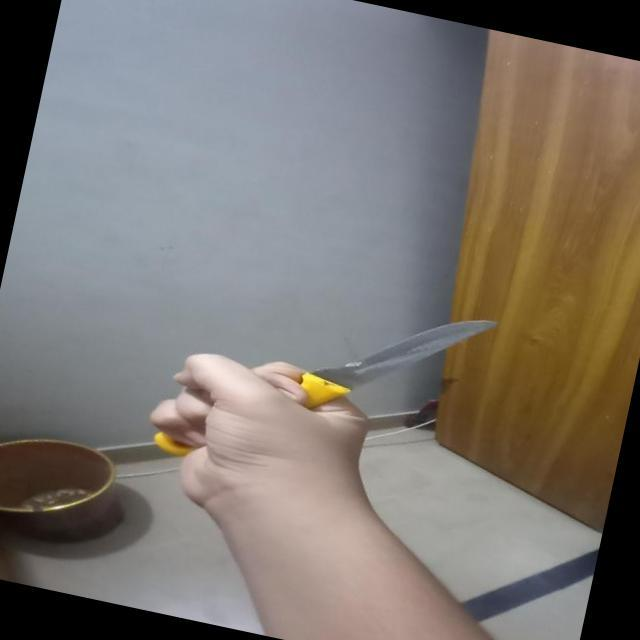Knife: (130, 247, 500, 512)
